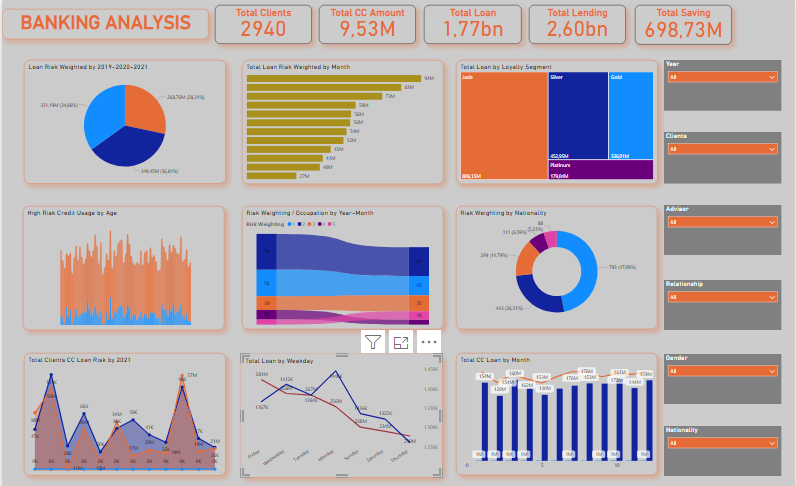

The dashboard page shown, as its layout file describes it:
{"tool":"powerbi","page":{"name":"Loan_Risk Analysis","canvas":[2000,1300],"ordinal":2},"visuals":[{"type":"textbox","title":"BANKING ANALYSIS","box":[0,26.1,521.3,75.8],"z":0},{"type":"card","title":"Total Loan","fields":{"Values":["All Measure.Total Loan"]},"box":[1064.6,14.6,245.8,97.9],"z":1000},{"type":"card","title":"Total Clients","fields":{"Values":["Clients - Banking.Client ID"]},"box":[537.5,14.6,243.8,97.9],"z":2000},{"type":"card","title":"Total CC Amount","fields":{"Values":["All Measure.TotalCCAmount"]},"box":[800,14.6,243.8,97.9],"z":3000},{"type":"card","title":"Total Lending","fields":{"Values":["All Measure.Total Lending"]},"box":[1329.2,14.6,243.8,97.9],"z":4000},{"type":"clusteredBarChart","title":"Total Loan Risk Weighted by Month","fields":{"Y":["All Measure.Loan Risk Weighted"],"Category":["Calendar.Month"]},"box":[604.2,154.2,508.3,312.5],"z":5000},{"type":"pieChart","title":"Loan Risk Weighted By [phone redacted] ","fields":{"Category":["Calendar.Year","Calendar.Month"],"Y":["All Measure.Loan Risk Weighted"]},"box":[55.2,153.7,509,311.9],"z":6000},{"type":"ribbonChart","title":"High Risk Credit Usage by Age","fields":{"Category":["Clients - Banking.Age"],"Y":["All Measure.High Risk Credit Usage","All Measure.Avg Income"]},"box":[54.2,520.8,508.3,312.5],"z":7000},{"type":"treemap","title":"Total Loan by Loyalty Segment","fields":{"Group":["Clients - Banking.Loyalty Classification"],"Values":["All Measure.Total Loan"]},"box":[1145.3,154,509.3,313],"z":8000},{"type":"donutChart","title":"Risk Weighting by Nationality","fields":{"Category":["Clients - Banking.Nationality"],"Y":["Clients - Banking.Risk Weighting"]},"box":[1145.9,521.3,508.2,311.5],"z":9000},{"type":"ribbonChart","title":"Risk Weighting  / Occupation By Year-Month ","fields":{"Category":["Calendar.Year","Calendar.Month"],"Y":["Clients - Banking.Occupation"],"Series":["Clients - Banking.Risk Weighting"]},"box":[604.9,521.3,508.2,311.5],"z":10000},{"type":"card","title":"Total Saving","fields":{"Values":["All Measure.Total Saving Amount"]},"box":[1597.2,14.2,244.1,99.5],"z":11000},{"type":"areaChart","title":"Total Clients   CC Loan Risk by 2021","fields":{"Category":["Calendar.Year","Calendar.Month"],"Y":["Clients - Banking.Client ID","All Measure.TotalCreditCards"],"Y2":["All Measure.Loan Risk Weighted"]},"box":[55.6,893.3,508.9,308.9],"z":12000},{"type":"slicer","title":"Year","fields":{"Values":["Calendar.Year"]},"box":[1670.6,154,296.2,128],"z":13000},{"type":"slicer","title":"Clients","fields":{"Values":["Clients - Banking.Name"]},"box":[1670,336,296,130],"z":14000},{"type":"slicer","title":"Relationship","fields":{"Values":["Clients - Banking.Banking Relationship.Banking Relationship"]},"box":[1670,708,296,126],"z":15000},{"type":"slicer","title":"Advisor","fields":{"Values":["Investment Advisor.Investment Advisor"]},"box":[1670,520,296,126],"z":16000},{"type":"lineChart","title":"Total Loan By Weekday","fields":{"Category":["Calendar.Weekday"],"Y":["All Measure.Total Loan"],"Y2":["All Measure.TotalCCAmount"]},"box":[602.6,894.7,507.9,310.5],"z":17000},{"type":"lineClusteredColumnComboChart","title":"Total CC Loan By Month","fields":{"Y":["All Measure.TotalCreditCards","All Measure.Total Loan"],"Y2":["All Measure.Total Deposit"],"Category":["Calendar.Month Number"]},"box":[1146,894,508,308],"z":18000},{"type":"slicer","title":"Gender","fields":{"Values":["Gender.Gender"]},"box":[1670,896,296,126],"z":19000},{"type":"slicer","title":"Nationality","fields":{"Values":["Clients - Banking.Nationality"]},"box":[1670,1076,296,126],"z":20000}]}

Visuals, with their boxes on the page's 2000x1300 design canvas (x1, y1, x2, y2). These are canvas units, not pixel positions in the 796x486 screenshot, which may show the page scaled, cropped or inside an application window:
"BANKING ANALYSIS" textbox: {"left": 0, "top": 26, "right": 521, "bottom": 102}
"Total Loan" card: {"left": 1065, "top": 15, "right": 1310, "bottom": 112}
"Total Clients" card: {"left": 538, "top": 15, "right": 781, "bottom": 112}
"Total CC Amount" card: {"left": 800, "top": 15, "right": 1044, "bottom": 112}
"Total Lending" card: {"left": 1329, "top": 15, "right": 1573, "bottom": 112}
"Total Loan Risk Weighted by Month" clusteredBarChart: {"left": 604, "top": 154, "right": 1112, "bottom": 467}
"Loan Risk Weighted By [phone redacted] " pieChart: {"left": 55, "top": 154, "right": 564, "bottom": 466}
"High Risk Credit Usage by Age" ribbonChart: {"left": 54, "top": 521, "right": 562, "bottom": 833}
"Total Loan by Loyalty Segment" treemap: {"left": 1145, "top": 154, "right": 1655, "bottom": 467}
"Risk Weighting by Nationality" donutChart: {"left": 1146, "top": 521, "right": 1654, "bottom": 833}
"Risk Weighting  / Occupation By Year-Month " ribbonChart: {"left": 605, "top": 521, "right": 1113, "bottom": 833}
"Total Saving" card: {"left": 1597, "top": 14, "right": 1841, "bottom": 114}
"Total Clients   CC Loan Risk by 2021" areaChart: {"left": 56, "top": 893, "right": 564, "bottom": 1202}
"Year" slicer: {"left": 1671, "top": 154, "right": 1967, "bottom": 282}
"Clients" slicer: {"left": 1670, "top": 336, "right": 1966, "bottom": 466}
"Relationship" slicer: {"left": 1670, "top": 708, "right": 1966, "bottom": 834}
"Advisor" slicer: {"left": 1670, "top": 520, "right": 1966, "bottom": 646}
"Total Loan By Weekday" lineChart: {"left": 603, "top": 895, "right": 1110, "bottom": 1205}
"Total CC Loan By Month" lineClusteredColumnComboChart: {"left": 1146, "top": 894, "right": 1654, "bottom": 1202}
"Gender" slicer: {"left": 1670, "top": 896, "right": 1966, "bottom": 1022}
"Nationality" slicer: {"left": 1670, "top": 1076, "right": 1966, "bottom": 1202}
